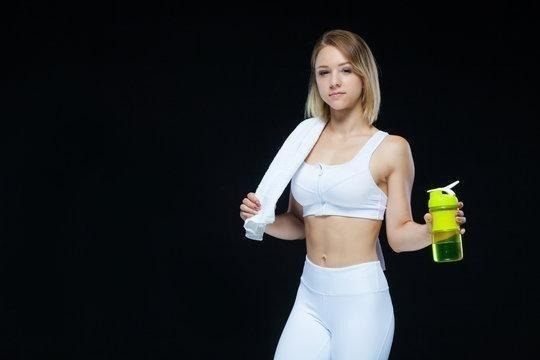gym bottle: (427, 184, 464, 263)
